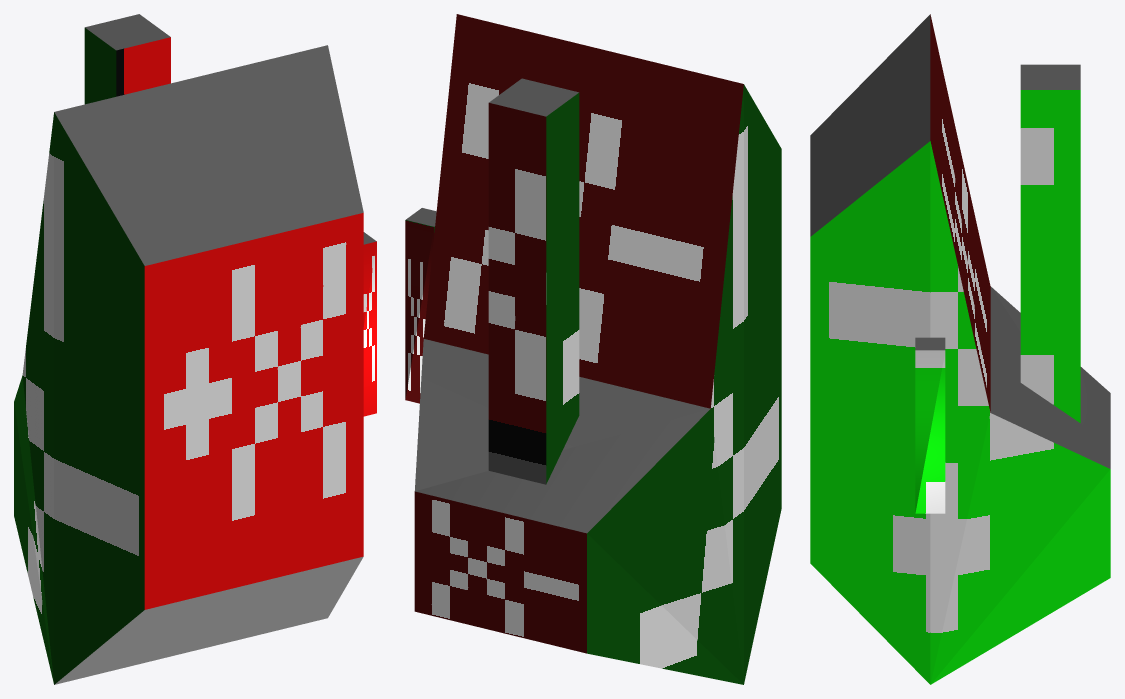
The model's file is heavytank4+z+y.obj.
3 views of the same model, side by side, from view 1: azimuth 30°, elevation 25°; view 2: azimuth 150°, elevation 25°; view 3: azimuth 270°, elevation 25° (orthographic). The views are drawn at different scales.
Parts seen in each view (by area): view 1: Cube; view 2: Cube; view 3: Cube.
Part boxes in pixels (x1,y1,x2,y2): Cube: (14, 14, 376, 684); Cube: (405, 14, 781, 684); Cube: (810, 14, 1110, 684).
Size of the model in its own units: 1.15 by 2 by 1.
1 material, 1 textured.
